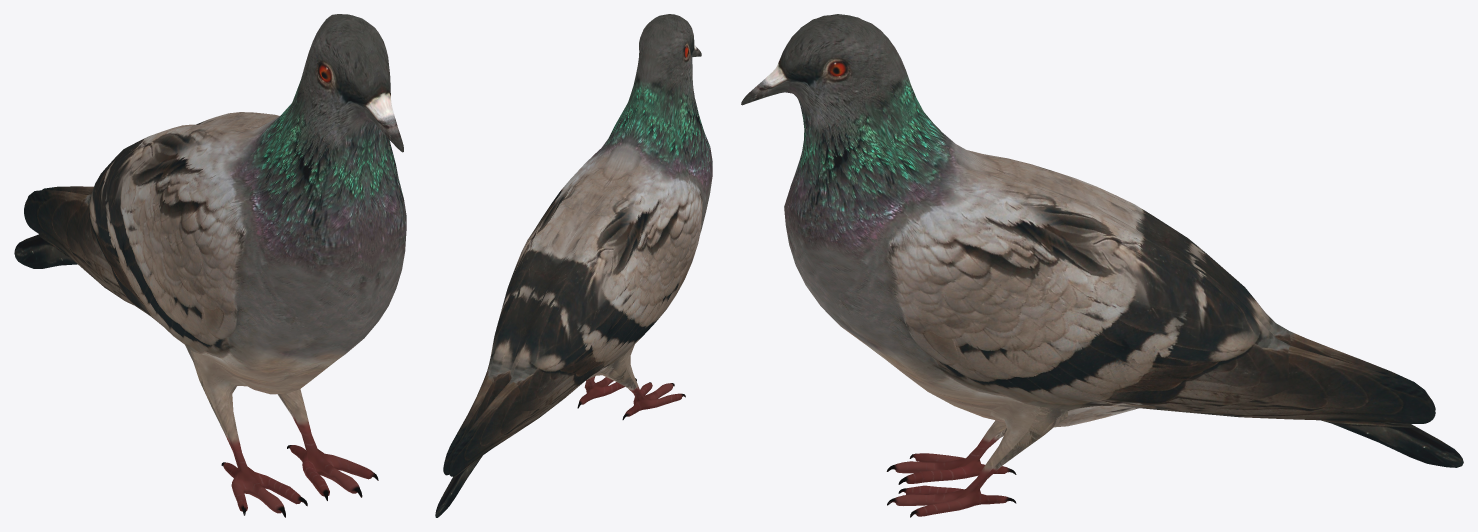
The model's file is Funfact_France.glb.
3 renders of one model, left to right at view 1: azimuth 30°, elevation 25°; view 2: azimuth 150°, elevation 25°; view 3: azimuth 270°, elevation 25°, orthographic. The views are drawn at different scales.
Parts seen in each view (by area): view 1: mesh_0; view 2: mesh_0; view 3: mesh_0.
Part boxes in pixels (x1,y1,x2,y2): mesh_0: (14,14,406,517); mesh_0: (435,14,712,517); mesh_0: (741,14,1463,517).
Size of the model in its own units: 0.2298 by 0.6299 by 0.8702.
Materials: 1 (1 with a texture image).
